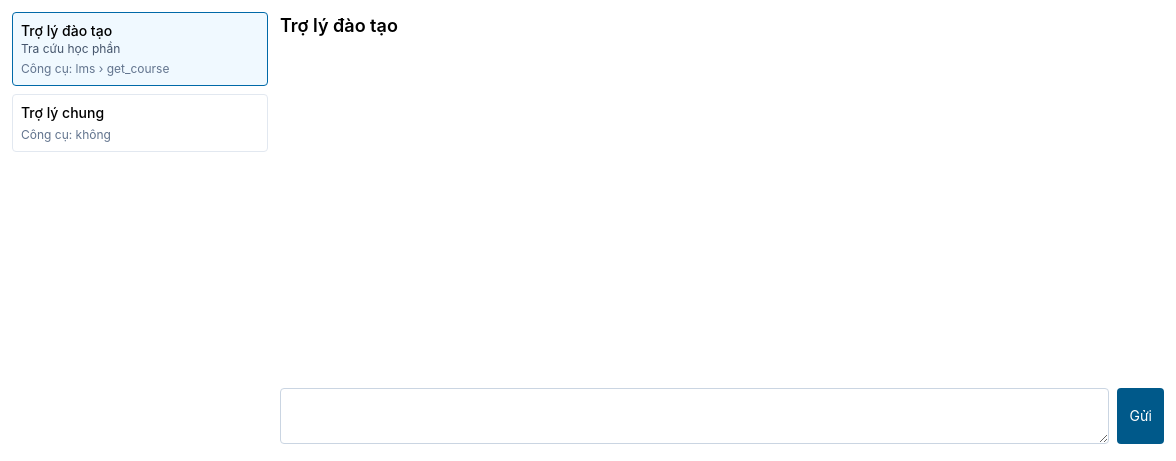
Test: AssistantsPage › asks before resending a DLP warning with dlpAcknowledged
Expected: the heading "Trợ lý đào tạo" is shown, x1=280 y1=15 x2=398 y2=36
In the text box named "Câu hỏi cho trợ lý": [695, 416] box x1=280 y1=388 x2=1110 y2=444, type "Tra cứu"
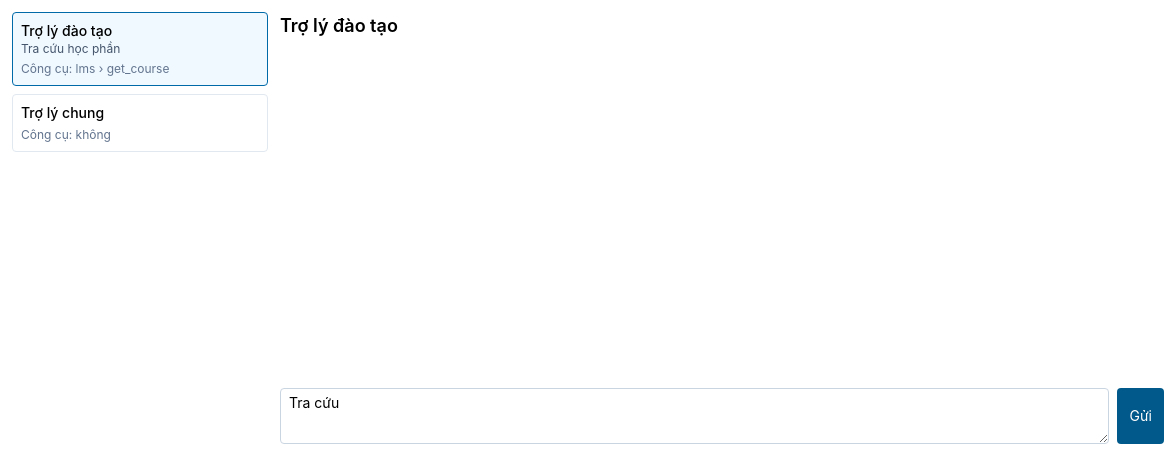
Click the button "Gửi": [1141, 416] box x1=1118 y1=388 x2=1164 y2=444
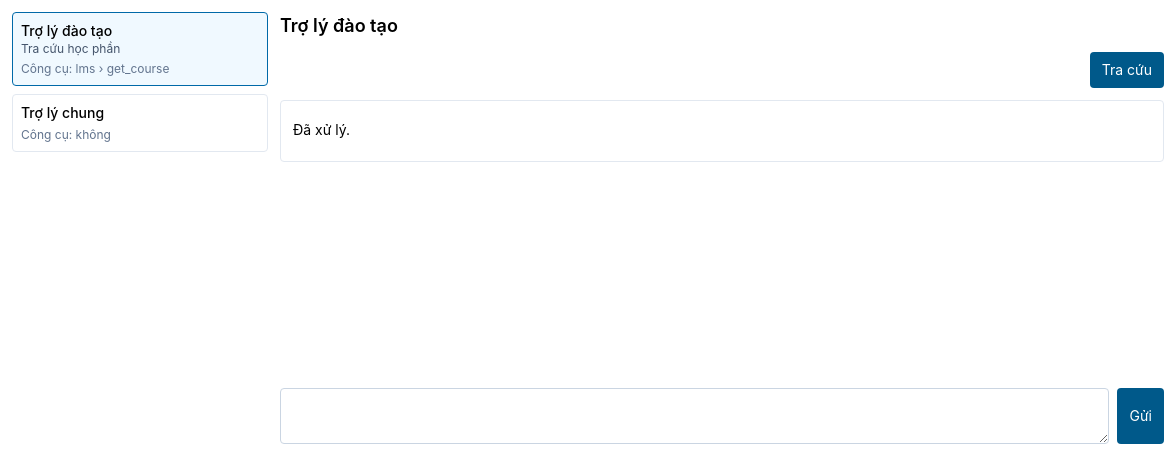
Expected: the text "Đã xử lý." is shown, x1=293 y1=121 x2=350 y2=138
